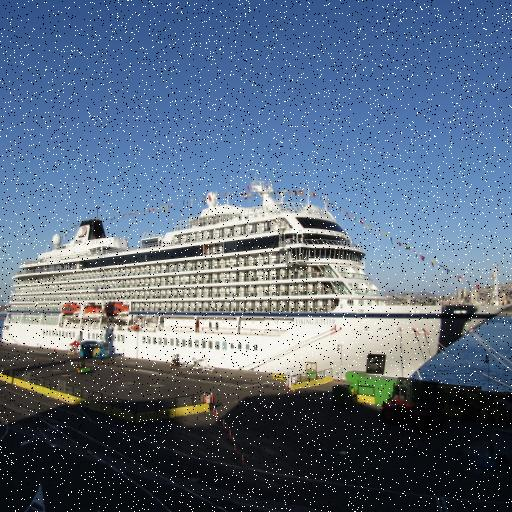cruises: (1, 175, 512, 391)
